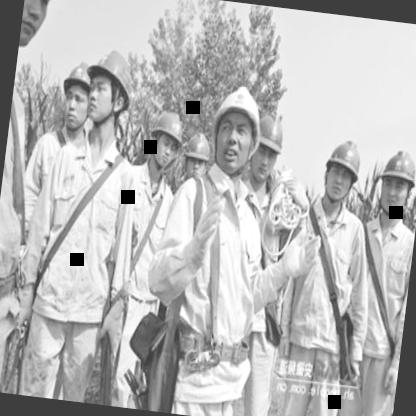helmet: (207, 81, 273, 183), (78, 40, 142, 141), (316, 132, 367, 215), (242, 105, 291, 188), (53, 53, 102, 135), (369, 141, 416, 226), (144, 106, 190, 178), (18, 0, 69, 56), (178, 128, 214, 183)
